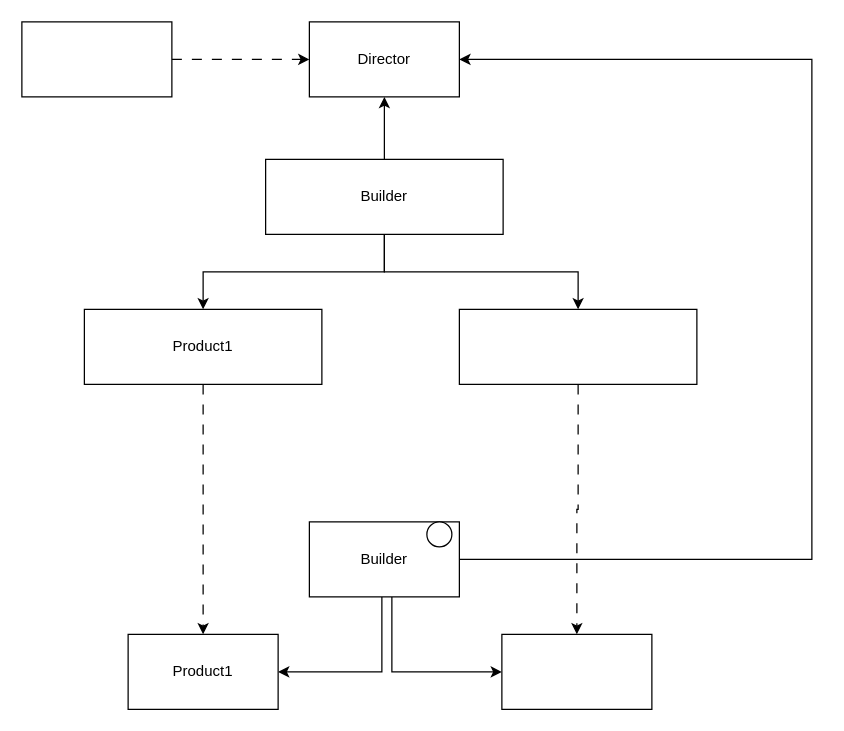
Image size: 844x731. Some labels were removed from this diagram. Here are the shapes that lost their labels. From the top down, the centre of each, then its label:
[96,59]: Client
[577,346]: Product2
[576,671]: Product
